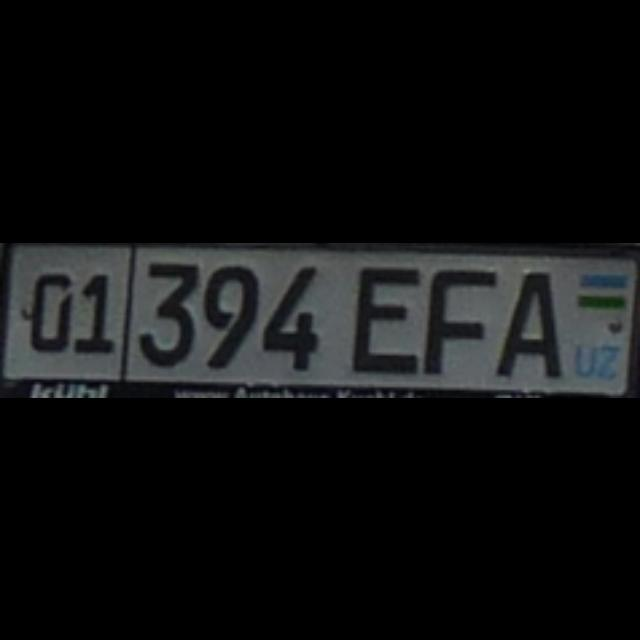0: (26, 266, 70, 348)
1: (70, 272, 110, 350)
3: (138, 258, 196, 364)
4: (258, 264, 318, 368)
9: (202, 261, 256, 363)
A: (494, 269, 560, 377)
E: (350, 263, 414, 371)
F: (422, 266, 494, 372)
